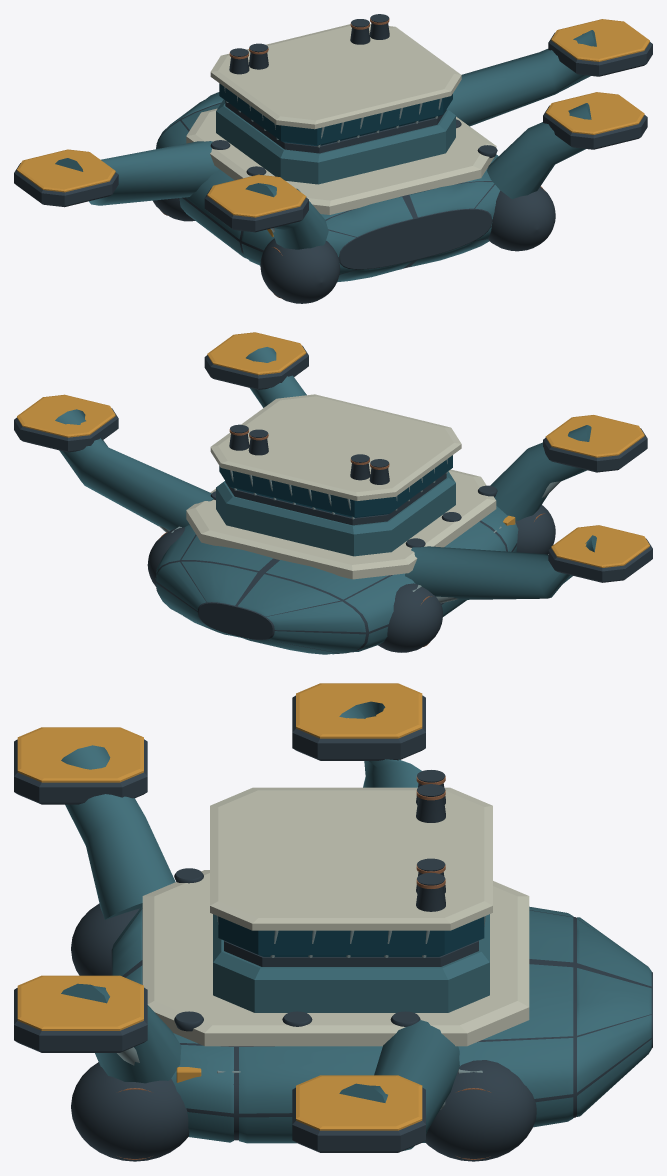
File: tempest_walker.glb
3 renders of one model, top to bottom at view 1: azimuth 30°, elevation 25°; view 2: azimuth 150°, elevation 25°; view 3: azimuth 270°, elevation 25°, orthographic. The views are drawn at different scales.
Parts seen in each view (by area): view 1: tempest_walker; view 2: tempest_walker; view 3: tempest_walker.
Part boxes in pixels (x1,y1,x2,y2): tempest_walker: [14, 14, 652, 303]; tempest_walker: [14, 332, 652, 654]; tempest_walker: [14, 683, 652, 1161].
Bounding box in the file's own units: 68.65 × 18.12 × 41.33.
